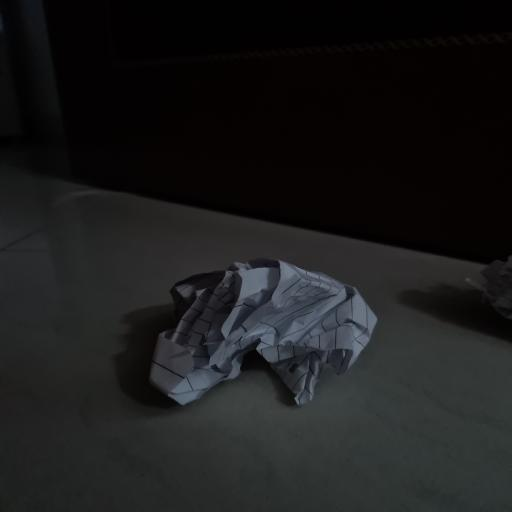Kertas: (150, 259, 376, 404), (466, 256, 512, 319)
